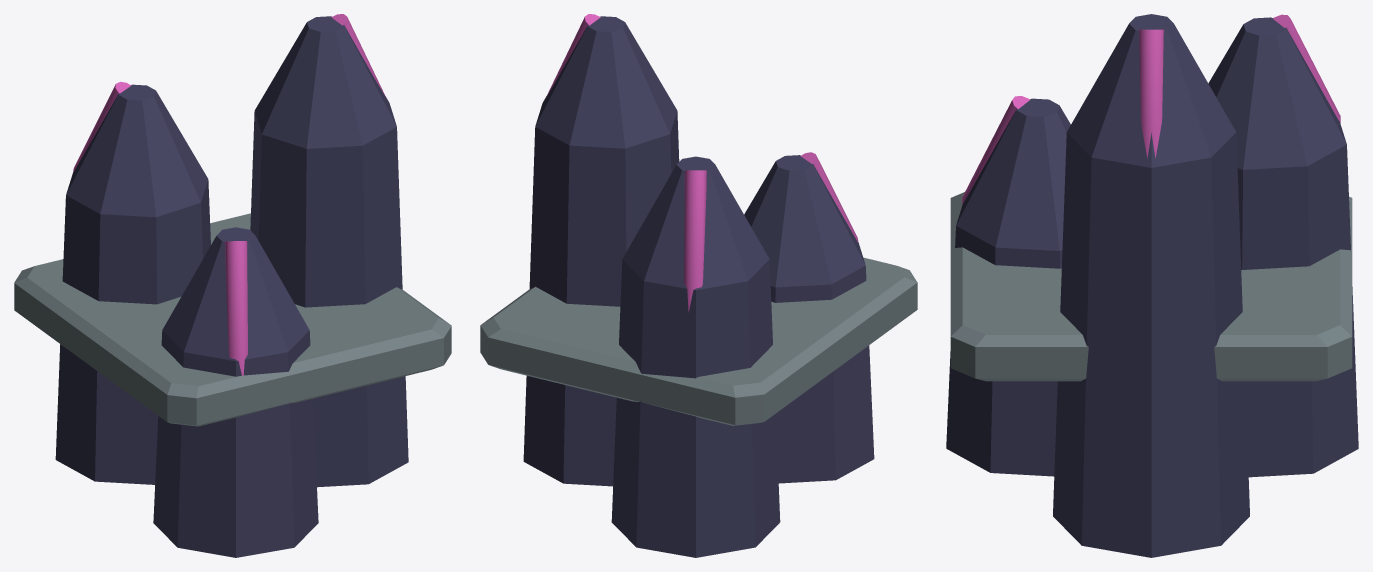
File: wreck_vespera_2.glb
3 views of the same model, side by side, from view 1: azimuth 30°, elevation 25°; view 2: azimuth 150°, elevation 25°; view 3: azimuth 270°, elevation 25° (orthographic). The views are drawn at different scales.
Visible parts, largest first — view 1: wreck_vespera_2; view 2: wreck_vespera_2; view 3: wreck_vespera_2.
Part boxes in pixels (x1,y1,x2,y2): wreck_vespera_2: [14, 14, 451, 557]; wreck_vespera_2: [480, 14, 917, 557]; wreck_vespera_2: [946, 14, 1358, 557].
Size of the model in its own units: 2.57 by 3.43 by 2.58.
